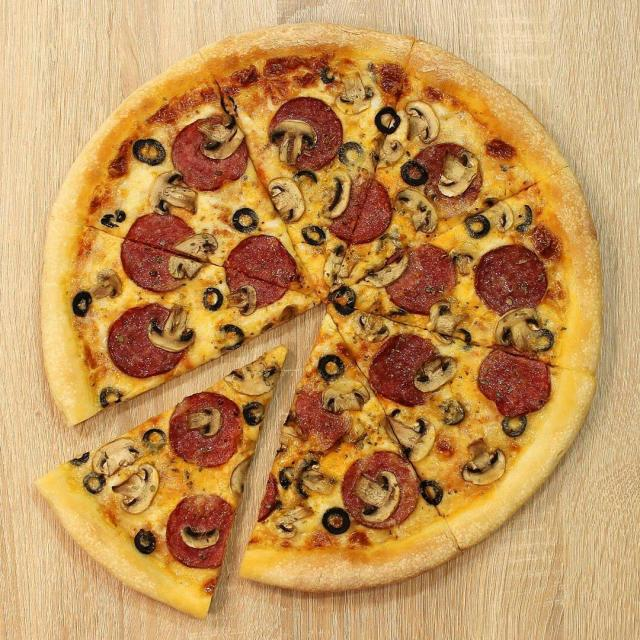black_olives: (227, 204, 260, 233), (133, 138, 166, 166), (217, 324, 245, 351), (374, 106, 401, 134), (329, 286, 356, 314), (321, 508, 350, 534), (416, 478, 444, 504), (400, 160, 427, 186), (439, 399, 465, 425), (319, 355, 345, 381), (501, 415, 528, 438), (465, 214, 490, 238), (142, 428, 166, 452), (242, 401, 265, 426), (134, 529, 156, 554), (338, 142, 362, 164), (82, 472, 106, 494), (301, 225, 326, 246), (72, 290, 92, 316), (99, 386, 122, 408), (516, 205, 534, 232), (202, 288, 224, 310), (100, 209, 126, 227), (535, 329, 555, 351), (279, 466, 294, 489), (70, 451, 90, 466), (294, 170, 318, 182), (320, 66, 335, 84)
mushrooms: (385, 408, 436, 462), (495, 308, 555, 352), (290, 450, 341, 500), (112, 464, 159, 514), (225, 356, 282, 397), (147, 305, 195, 353), (270, 119, 317, 165), (197, 115, 244, 159), (150, 170, 196, 214), (437, 150, 479, 197), (463, 439, 505, 485), (335, 67, 375, 115), (426, 300, 470, 343), (395, 189, 437, 233), (91, 438, 139, 476), (262, 501, 312, 536), (268, 178, 305, 222), (354, 475, 388, 522), (323, 380, 370, 412), (414, 357, 456, 392), (322, 170, 352, 218), (365, 255, 409, 287), (406, 101, 439, 143), (368, 134, 406, 170), (84, 269, 130, 298), (172, 234, 218, 262), (484, 192, 514, 234), (226, 456, 250, 501), (186, 408, 222, 437), (354, 312, 388, 342), (324, 244, 346, 286), (450, 240, 475, 276), (181, 526, 220, 549), (228, 285, 256, 315), (169, 255, 202, 279)
pepperoni: (120, 210, 204, 292), (221, 230, 298, 312), (406, 140, 484, 218), (341, 451, 419, 528), (172, 116, 248, 191), (169, 392, 242, 467), (108, 304, 182, 377), (269, 97, 342, 170), (369, 334, 439, 406), (475, 245, 547, 315), (166, 495, 234, 569), (386, 245, 456, 314), (479, 350, 550, 417), (329, 177, 392, 243), (295, 390, 350, 450)
pizza: (29, 25, 600, 620)
